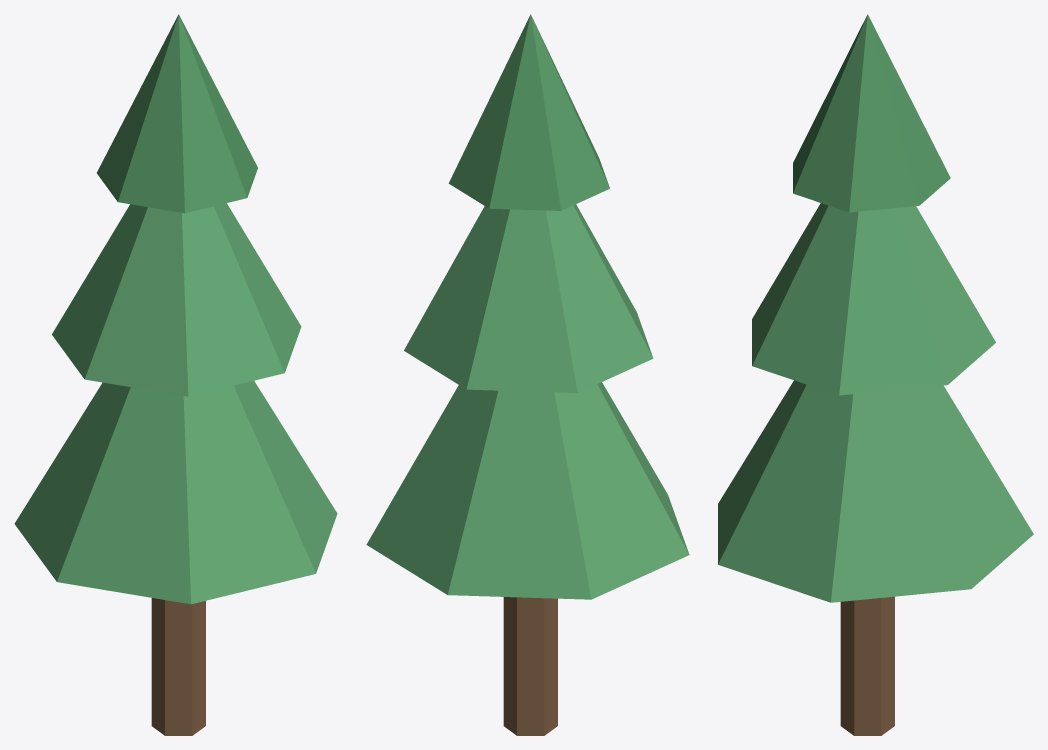
The model's file is tree_a.glb.
The picture shows the model from 3 angles, left to right: view 1: azimuth 30°, elevation 25°; view 2: azimuth 150°, elevation 25°; view 3: azimuth 270°, elevation 25°; orthographic projection.
Visible parts, largest first — view 1: Crown1, Crown2, Crown3, Trunk; view 2: Crown1, Crown2, Crown3, Trunk; view 3: Crown1, Crown2, Crown3, Trunk.
Part boxes in pixels (box(x1,y1,x2,y2)): Crown1: box(14, 381, 337, 604); Crown2: box(52, 203, 301, 396); Crown3: box(97, 14, 257, 213); Trunk: box(151, 598, 205, 735); Crown1: box(366, 382, 689, 599); Crown2: box(404, 204, 653, 392); Crown3: box(448, 14, 609, 210); Trunk: box(503, 597, 557, 735); Crown1: box(718, 380, 1033, 602); Crown2: box(752, 203, 995, 395); Crown3: box(793, 14, 950, 212); Trunk: box(840, 596, 894, 735).
Bounding box in the file's own units: 2.14 × 5.2 × 2.09.
